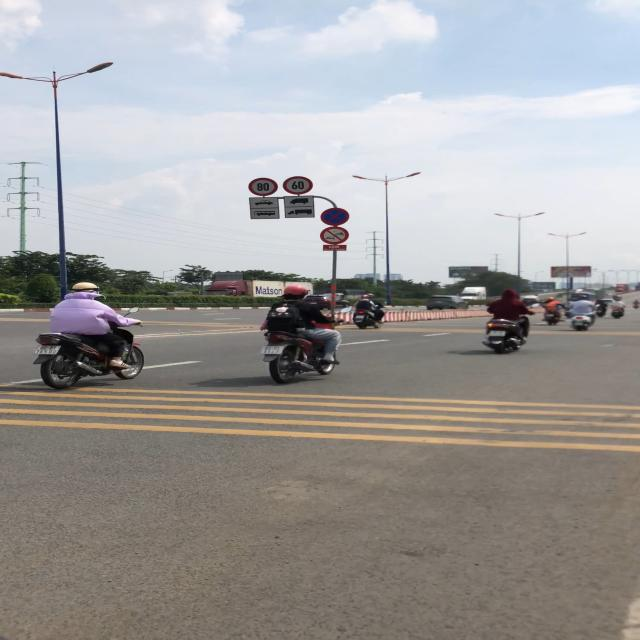Bien bao cam dung xe va do xe: (321, 206, 351, 226)
Bien bao toc do toi da cho phep: (247, 176, 280, 197), (281, 175, 314, 195)
